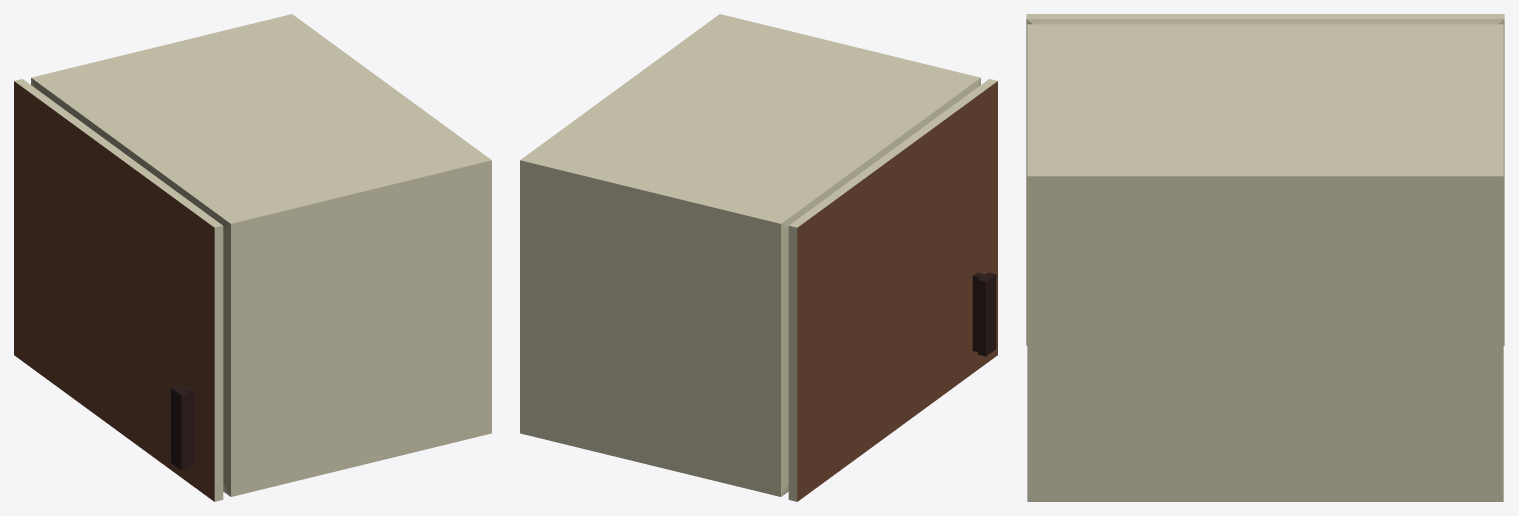
Rendered from left cabinet.fbx.
The picture shows the model from 3 angles, left to right: view 1: azimuth 30°, elevation 25°; view 2: azimuth 150°, elevation 25°; view 3: azimuth 270°, elevation 25°; orthographic projection. The views are drawn at different scales.
Visible parts, largest first — view 1: Cube.023, Cube.022; view 2: Cube.023, Cube.022; view 3: Cube.023.
Boxes of the visible parts, x1,y1,x2,y2 form: Cube.023: [14, 14, 491, 501]; Cube.022: [171, 386, 194, 470]; Cube.023: [520, 14, 997, 501]; Cube.022: [972, 272, 996, 356]; Cube.023: [1026, 14, 1504, 501].
Bounding box in the file's own units: 1005 × 897 × 1189.
